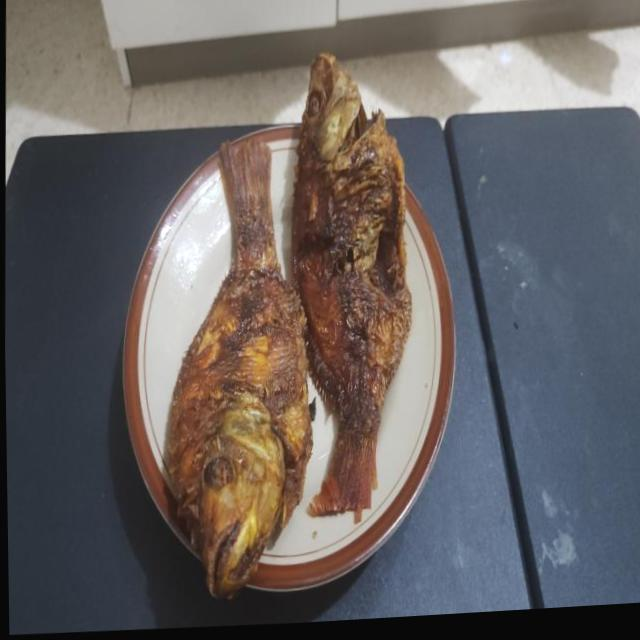ikan_mujair: (165, 134, 312, 596), (291, 53, 411, 516)
